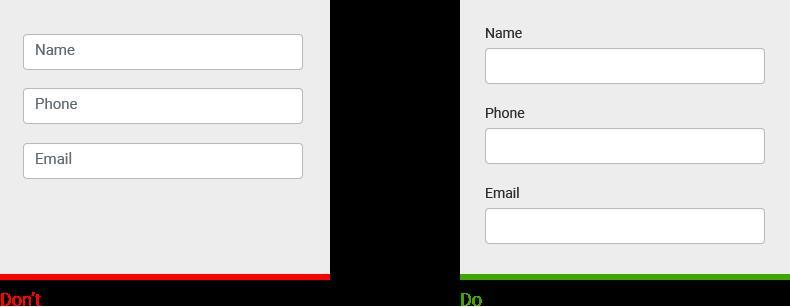input: (486, 49, 766, 86), (486, 130, 765, 166), (25, 89, 304, 124), (487, 210, 764, 245), (25, 36, 305, 70), (24, 144, 304, 178)
label: (485, 104, 526, 122), (486, 24, 524, 42), (483, 188, 521, 202)
